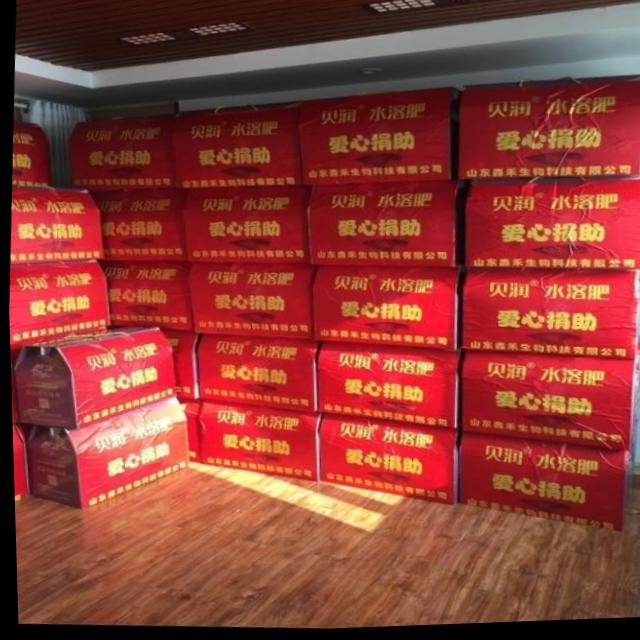box: (458, 348, 640, 456), (457, 78, 640, 184), (454, 434, 631, 537), (25, 398, 186, 511), (463, 181, 640, 275), (11, 328, 174, 429), (458, 274, 640, 363), (295, 91, 454, 189), (315, 418, 458, 510), (305, 184, 454, 272), (312, 346, 459, 433), (309, 269, 454, 354), (174, 103, 302, 190), (8, 262, 109, 367), (194, 335, 317, 416), (196, 403, 319, 484), (184, 265, 312, 342), (179, 189, 310, 264), (66, 117, 176, 189), (9, 188, 102, 265), (86, 190, 184, 261), (96, 262, 191, 332), (155, 329, 196, 401), (11, 120, 49, 187), (172, 400, 203, 466), (10, 425, 27, 505)
